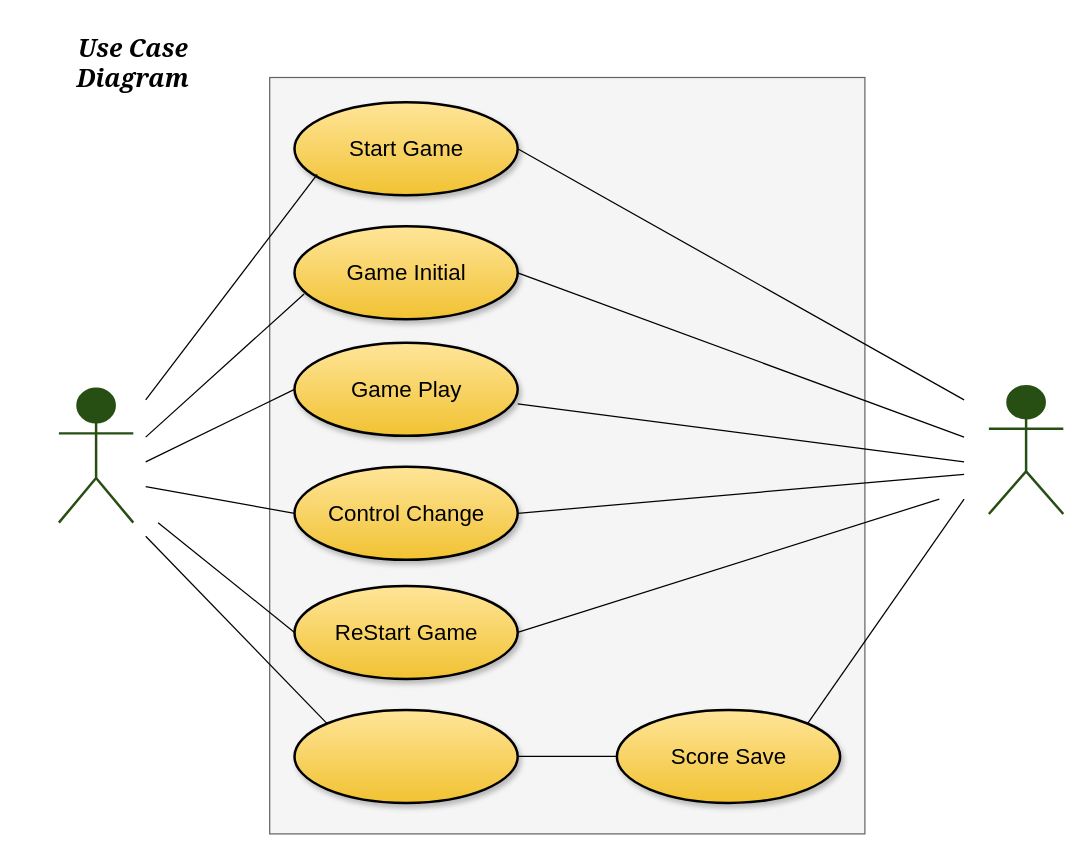
This 1086x856 diagram has some shape labels left out. Here are the shapes that lost their labels. From the top down, the centre of each, then its label:
At [95,455]: "Player".
At [1025,449]: "System".
At [407,757]: "View Game Score".
